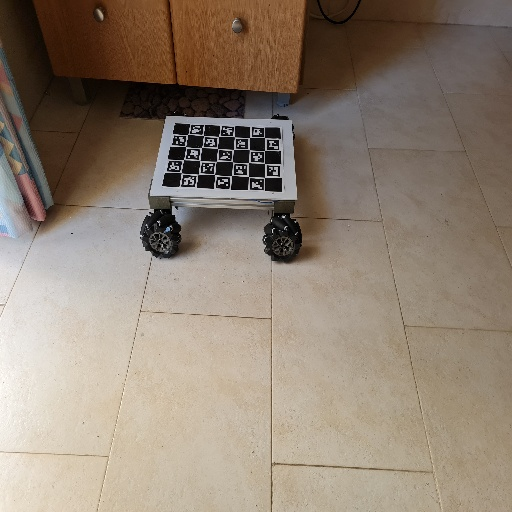Omniwheel: (139, 115, 305, 264)
